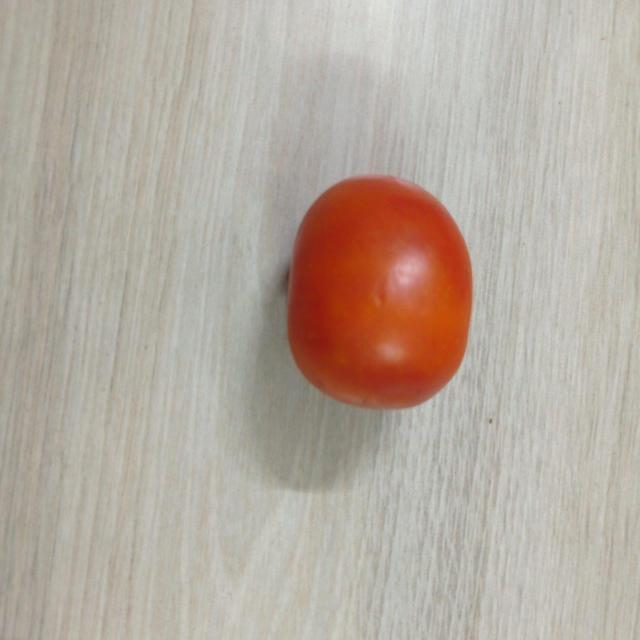Tomato: (285, 170, 476, 414)
